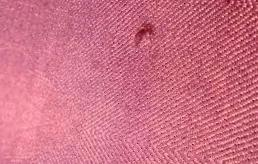knot: (131, 20, 157, 52)
